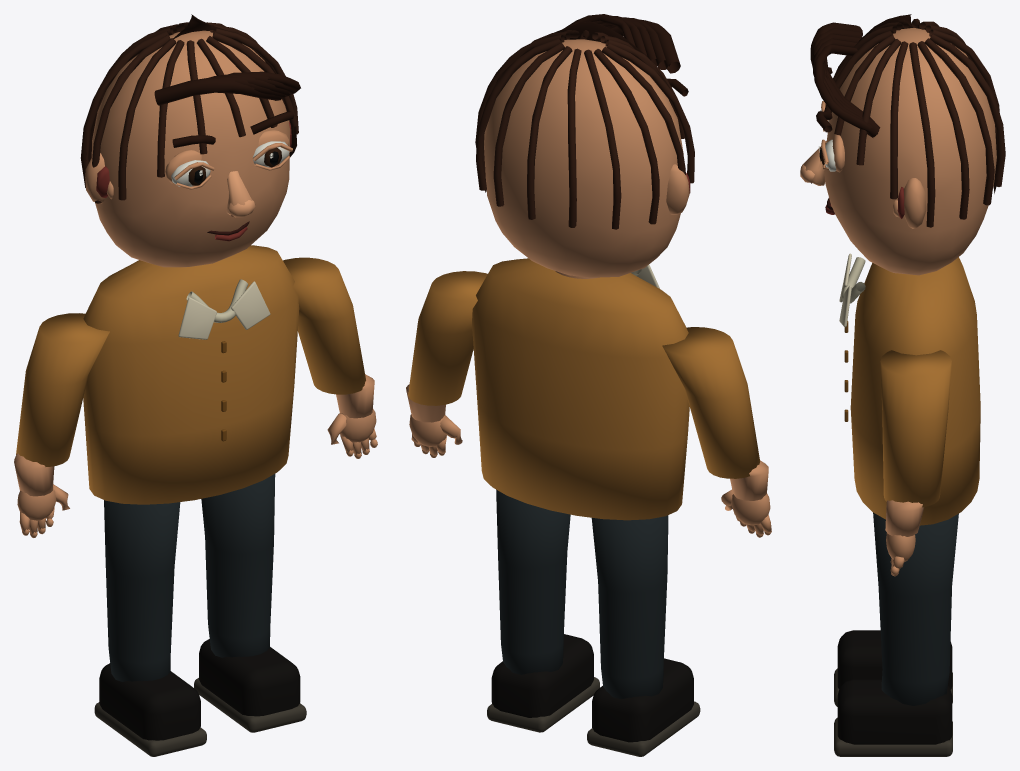
The model's file is patient-27.glb.
3 views of the same model, side by side, from view 1: azimuth 30°, elevation 25°; view 2: azimuth 150°, elevation 25°; view 3: azimuth 270°, elevation 25° (orthographic).
Parts seen in each view (by area): view 1: Body, Head, LegL, LegR, ArmL, ArmR; view 2: Body, Head, LegL, LegR, ArmL, ArmR; view 3: Head, Body, LegR, ArmR, LegL.
Part boxes in pixels (bbox=[...]): Body: bbox=[83, 245, 299, 504]; Head: bbox=[80, 14, 300, 267]; LegL: bbox=[94, 500, 206, 756]; LegR: bbox=[194, 474, 306, 732]; ArmL: bbox=[14, 313, 109, 537]; ArmR: bbox=[283, 257, 377, 458]; Body: bbox=[472, 258, 689, 520]; Head: bbox=[475, 14, 694, 277]; LegL: bbox=[587, 515, 700, 756]; LegR: bbox=[487, 489, 599, 732]; ArmL: bbox=[662, 327, 771, 537]; ArmR: bbox=[406, 271, 487, 457]; Head: bbox=[800, 14, 1005, 275]; Body: bbox=[839, 253, 980, 525]; LegR: bbox=[834, 512, 958, 756]; ArmR: bbox=[880, 350, 951, 576]; LegL: bbox=[834, 630, 952, 706].
Size of the model in its own units: 0.7628 by 1.43 by 0.3772.
